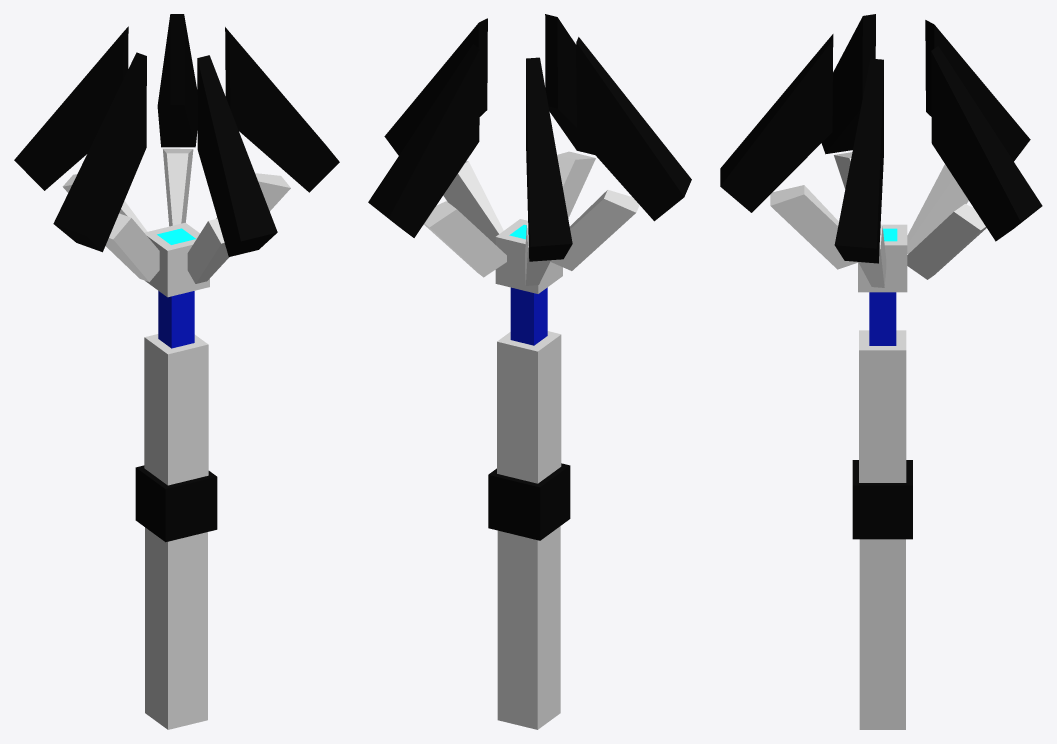
File: MultiverseMagicStick.fbx
3 views of the same model, side by side, from view 1: azimuth 30°, elevation 25°; view 2: azimuth 150°, elevation 25°; view 3: azimuth 270°, elevation 25° (orthographic).
Parts seen in each view (by area): view 1: Cube.002, Cube; view 2: Cube.002, Cube; view 3: Cube.002, Cube.
Boxes of the visible parts, x1,y1,x2,y2 form: Cube.002: [14, 14, 339, 283]; Cube: [135, 222, 217, 729]; Cube.002: [368, 14, 691, 285]; Cube: [488, 219, 570, 729]; Cube.002: [720, 14, 1042, 287]; Cube: [852, 224, 912, 729].
Bounding box in the file's own units: 61.88 × 140 × 59.93.
